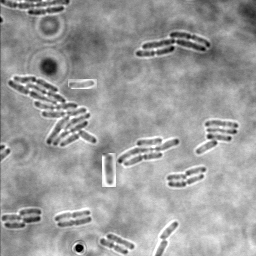Dividing: (167, 175, 204, 189), (99, 238, 128, 255), (102, 153, 116, 187), (54, 209, 90, 222), (56, 217, 92, 228), (27, 7, 64, 17)
Microcolony: (7, 76, 98, 147), (117, 137, 180, 168), (135, 32, 211, 57), (195, 120, 238, 155), (1, 208, 42, 229), (68, 79, 97, 89)
Rod: (106, 233, 135, 251), (157, 222, 178, 240), (184, 167, 206, 177), (166, 174, 187, 183)
